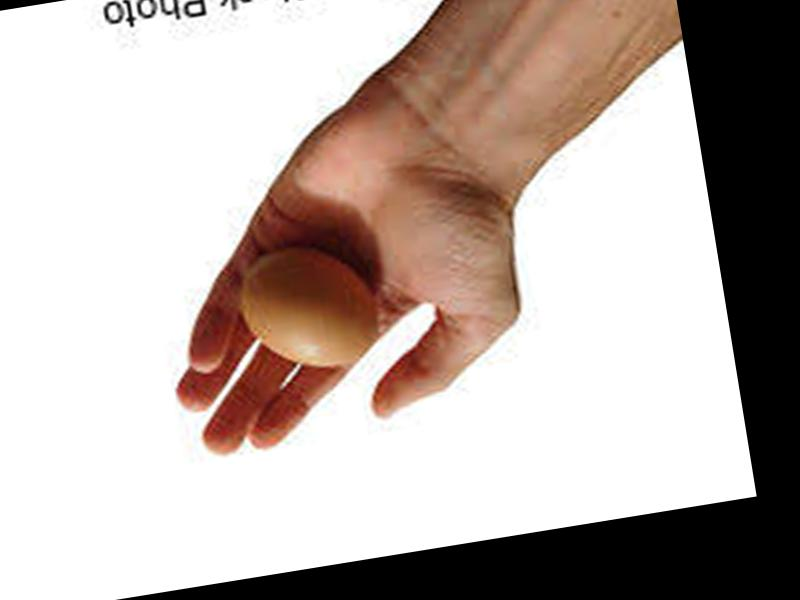Eggs: (231, 238, 378, 375)
